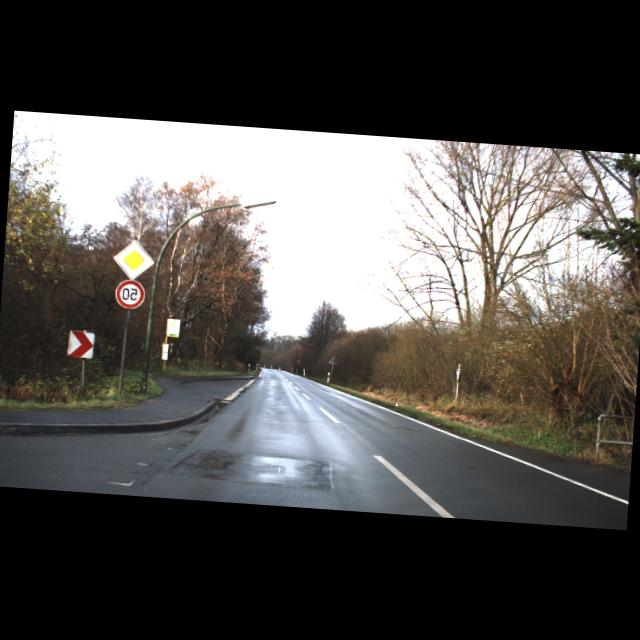other: (112, 238, 155, 282)
prohibitory: (115, 279, 146, 310)
